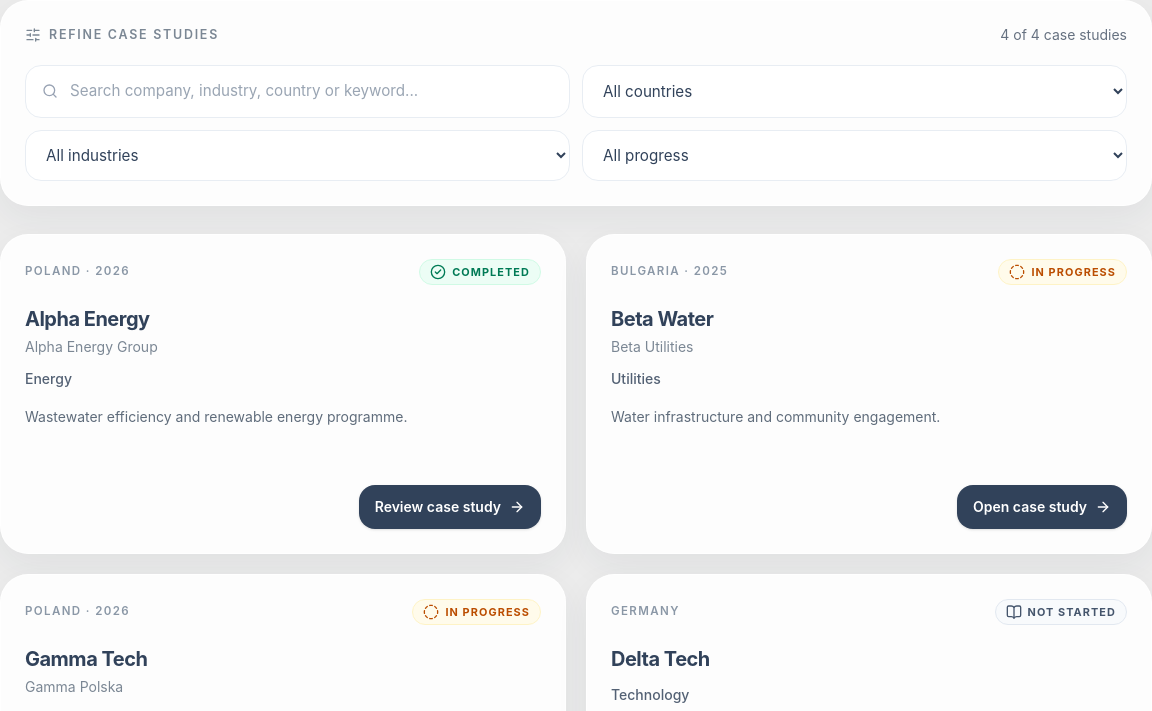
Test: ePortfolio library UI › searches by industry as part of the free-text search
Type "technology" into the field named "Search case studies" at (312, 91), box [70, 80, 553, 103]
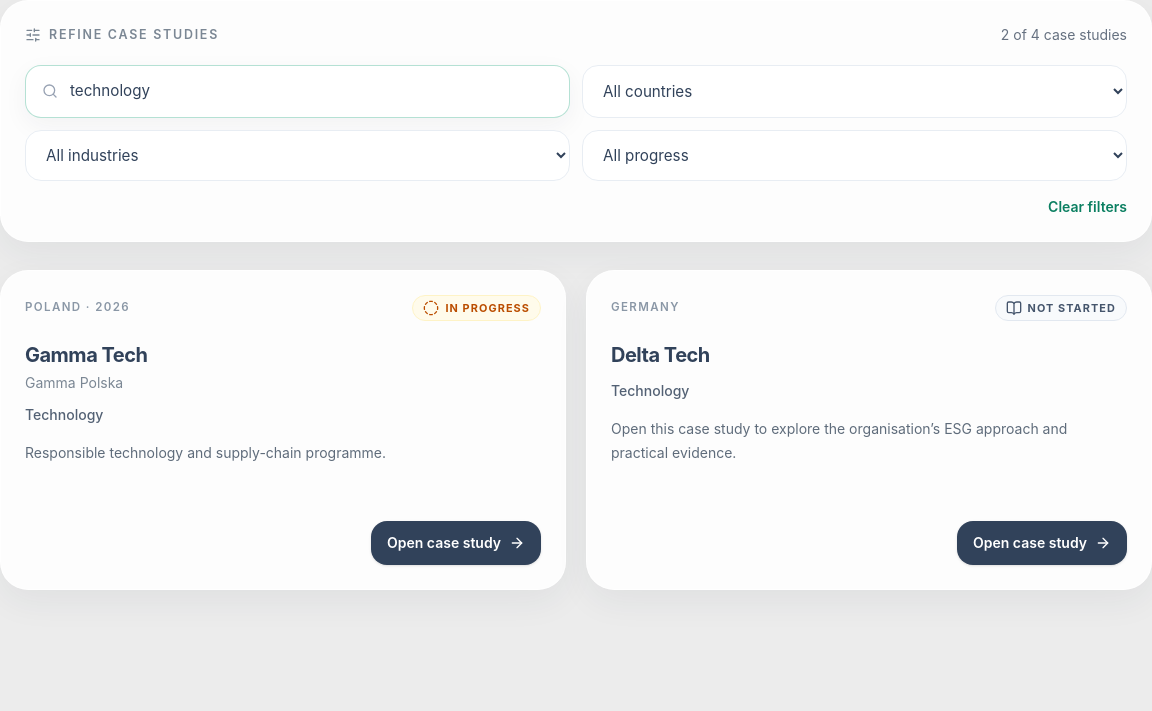
Expected: the heading "Alpha Energy" is gone
Expected: the heading "Beta Water" is gone
Expected: the text "2 of 4 case studies" is shown, [1001, 25, 1127, 45]
